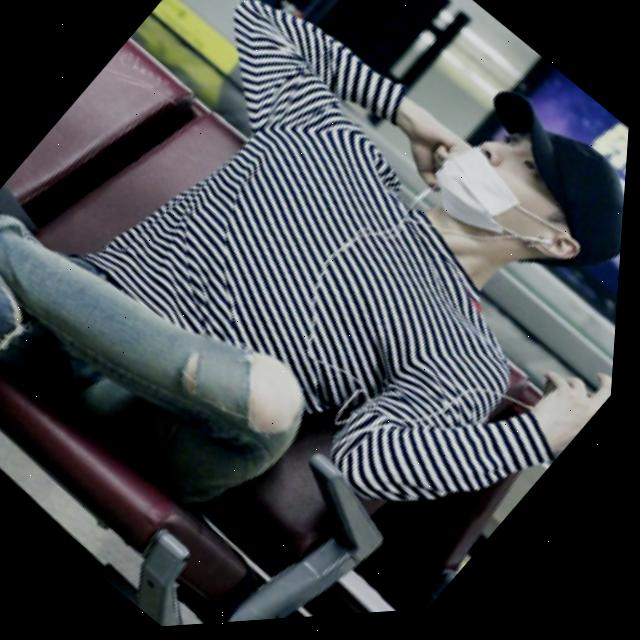Mask: (415, 128, 605, 305)
